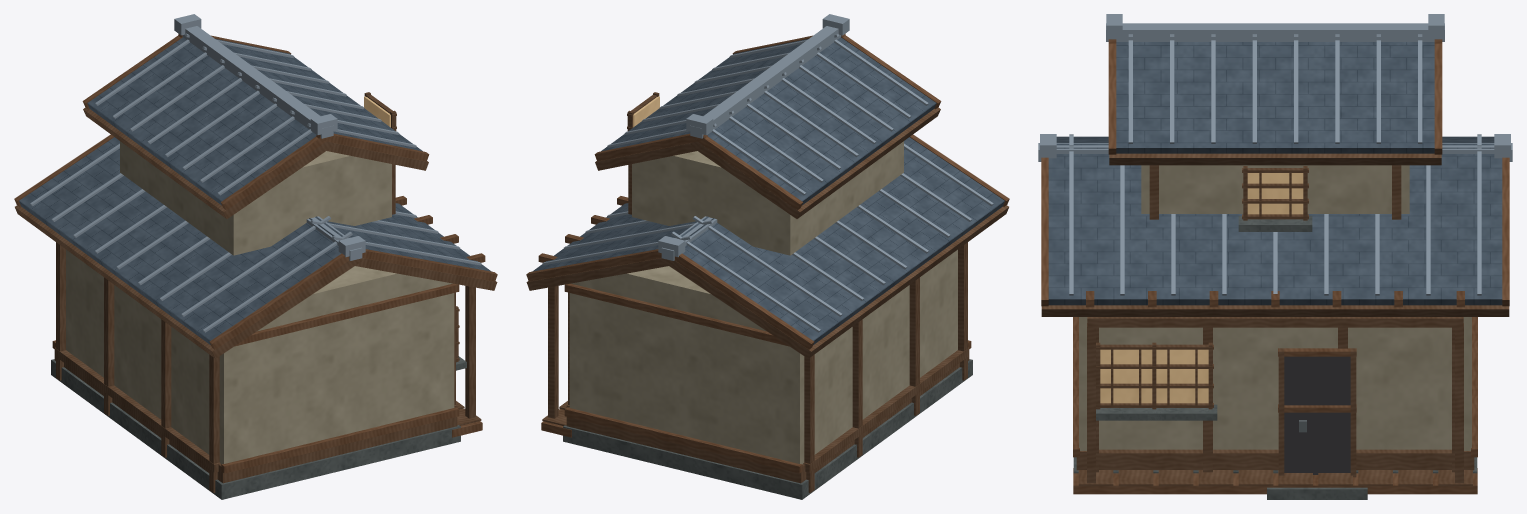
The model's file is kominka_02.glb.
3 views of the same model, side by side, from view 1: azimuth 30°, elevation 25°; view 2: azimuth 150°, elevation 25°; view 3: azimuth 270°, elevation 25° (orthographic). The views are drawn at different scales.
Visible parts, largest first — view 1: TsukimoriSharedHome; view 2: TsukimoriSharedHome; view 3: TsukimoriSharedHome.
Part boxes in pixels (box(x1,y1,x2,y2)): TsukimoriSharedHome: box(14, 14, 497, 499); TsukimoriSharedHome: box(526, 14, 1009, 499); TsukimoriSharedHome: box(1038, 14, 1512, 499).
Bounding box in the file's own units: 6.07 × 6.76 × 7.24.
Materials: 9 (6 with a texture image).
